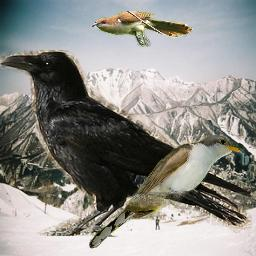Crow: (0, 50, 252, 236)
Cuckoo: (86, 133, 248, 250), (91, 11, 194, 47)
